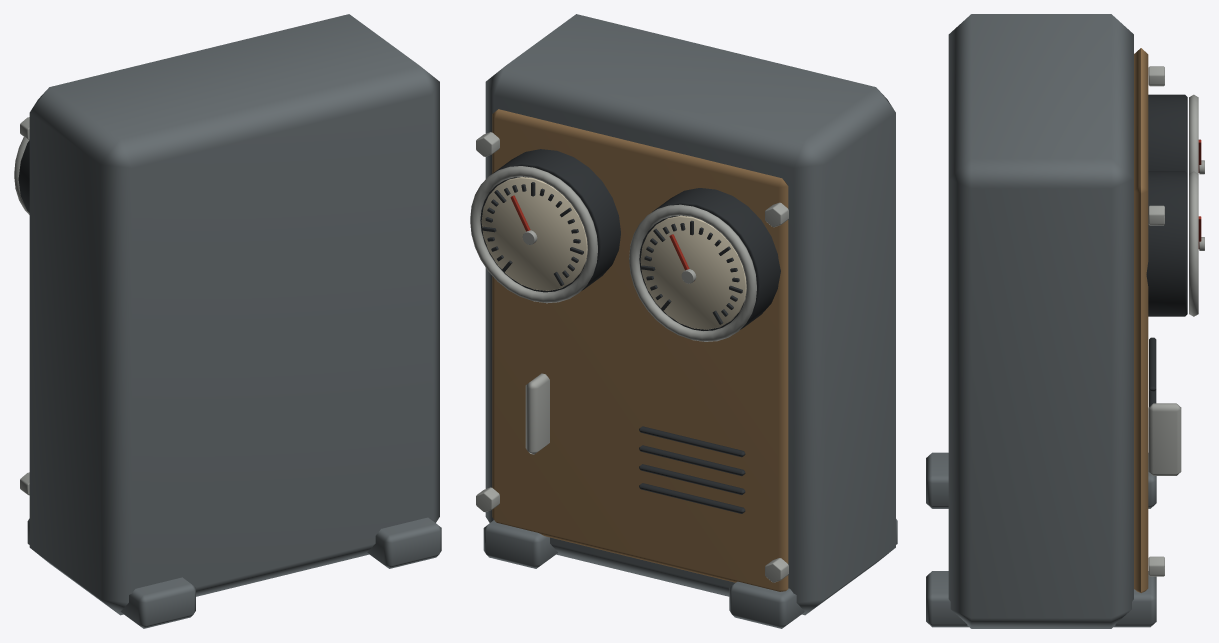
File: foundry-control.glb
The picture shows the model from 3 angles, left to right: view 1: azimuth 30°, elevation 25°; view 2: azimuth 150°, elevation 25°; view 3: azimuth 270°, elevation 25°; orthographic projection.
Parts seen in each view (by area): view 1: ControlCabinet_Foundry_Iron, ControlCabinet_Foundry_Machined, ControlCabinet_Foundry_Recess; view 2: ControlCabinet_Foundry_Iron, ControlCabinet_Foundry_Bronze, ControlCabinet_Foundry_Recess, ControlCabinet_Foundry_Machined, Gauge face.001, Gauge face; view 3: ControlCabinet_Foundry_Iron, ControlCabinet_Foundry_Recess, ControlCabinet_Foundry_Bronze, ControlCabinet_Foundry_Machined.
Part boxes in pixels (<box>): ControlCabinet_Foundry_Iron: <box>27,14,441,628</box>; ControlCabinet_Foundry_Machined: <box>14,117,29,495</box>; ControlCabinet_Foundry_Recess: <box>18,140,29,212</box>; ControlCabinet_Foundry_Iron: <box>483,14,897,628</box>; ControlCabinet_Foundry_Bronze: <box>492,109,788,591</box>; ControlCabinet_Foundry_Recess: <box>480,149,780,513</box>; ControlCabinet_Foundry_Machined: <box>470,132,788,582</box>; Gauge face.001: <box>481,177,587,290</box>; Gauge face: <box>640,215,746,329</box>; ControlCabinet_Foundry_Iron: <box>926,14,1156,628</box>; ControlCabinet_Foundry_Recess: <box>1146,94,1187,406</box>; ControlCabinet_Foundry_Bronze: <box>1134,48,1148,592</box>; ControlCabinet_Foundry_Machined: <box>1148,66,1204,576</box>.
Bounding box in the file's own units: 0.94 × 1.26 × 0.677.
